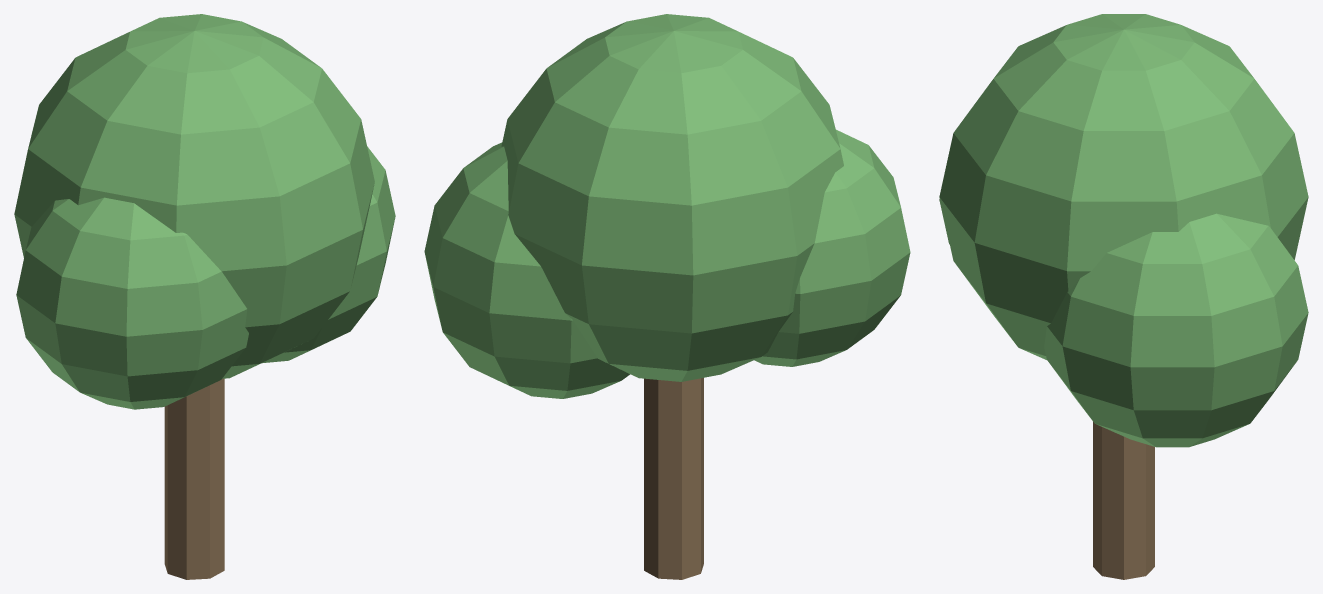
The model's file is tree_broadleaf.glb.
The picture shows the model from 3 angles, left to right: view 1: azimuth 30°, elevation 25°; view 2: azimuth 150°, elevation 25°; view 3: azimuth 270°, elevation 25°; orthographic projection.
Parts seen in each view (by area): view 1: BLeaf_Canopy_A, BLeaf_Canopy_C, BLeaf_Trunk, BLeaf_Canopy_B; view 2: BLeaf_Canopy_A, BLeaf_Canopy_B, BLeaf_Canopy_C, BLeaf_Trunk; view 3: BLeaf_Canopy_A, BLeaf_Canopy_B, BLeaf_Trunk.
Part boxes in pixels (x1,y1,x2,y2): BLeaf_Canopy_A: (14,14,374,378); BLeaf_Canopy_C: (16,197,248,409); BLeaf_Trunk: (164,378,224,579); BLeaf_Canopy_B: (262,146,395,363); BLeaf_Canopy_A: (501,14,843,381); BLeaf_Canopy_B: (424,142,630,398); BLeaf_Canopy_C: (754,129,910,366); BLeaf_Trunk: (644,378,703,579); BLeaf_Canopy_A: (939,14,1308,359); BLeaf_Canopy_B: (1044,213,1308,447); BLeaf_Trunk: (1093,422,1154,579).
Bounding box in the file's own units: 2.33 × 3.05 × 1.9.
